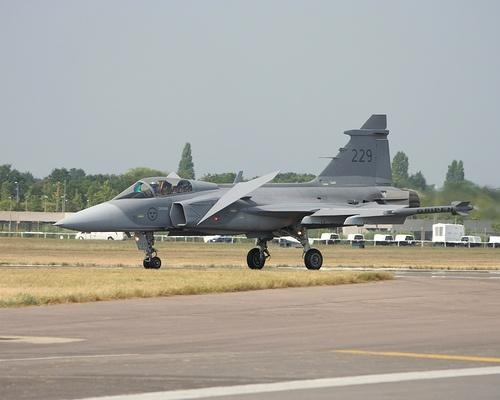aeroplane: (47, 114, 479, 278)
